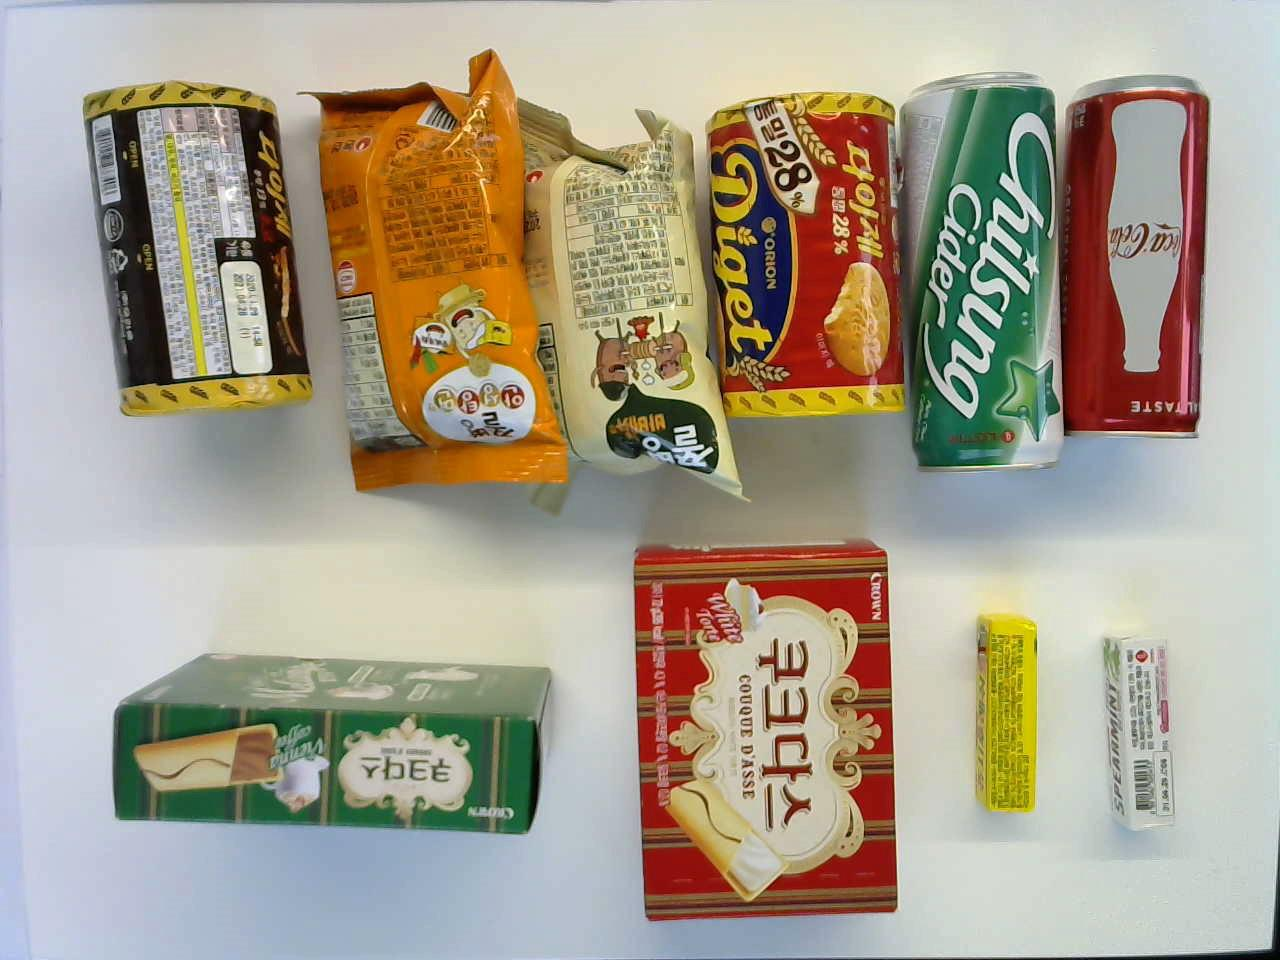cidar: (895, 69, 1067, 474)
coke: (1059, 69, 1217, 447)
couque_coffee: (109, 648, 568, 840)
couque_white: (630, 534, 902, 917)
diget_choco: (71, 75, 322, 418)
diget_ori: (714, 90, 898, 422)
jjolbyung_noodle: (313, 44, 571, 496)
jjolbyung_ori: (518, 89, 747, 514)
juicyfresh: (968, 609, 1040, 817)
spearmint: (1087, 631, 1177, 832)
